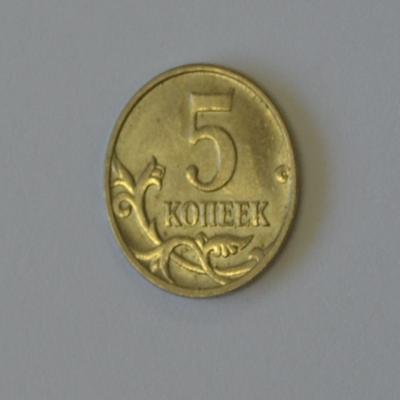numismatics: (105, 64, 296, 297)
